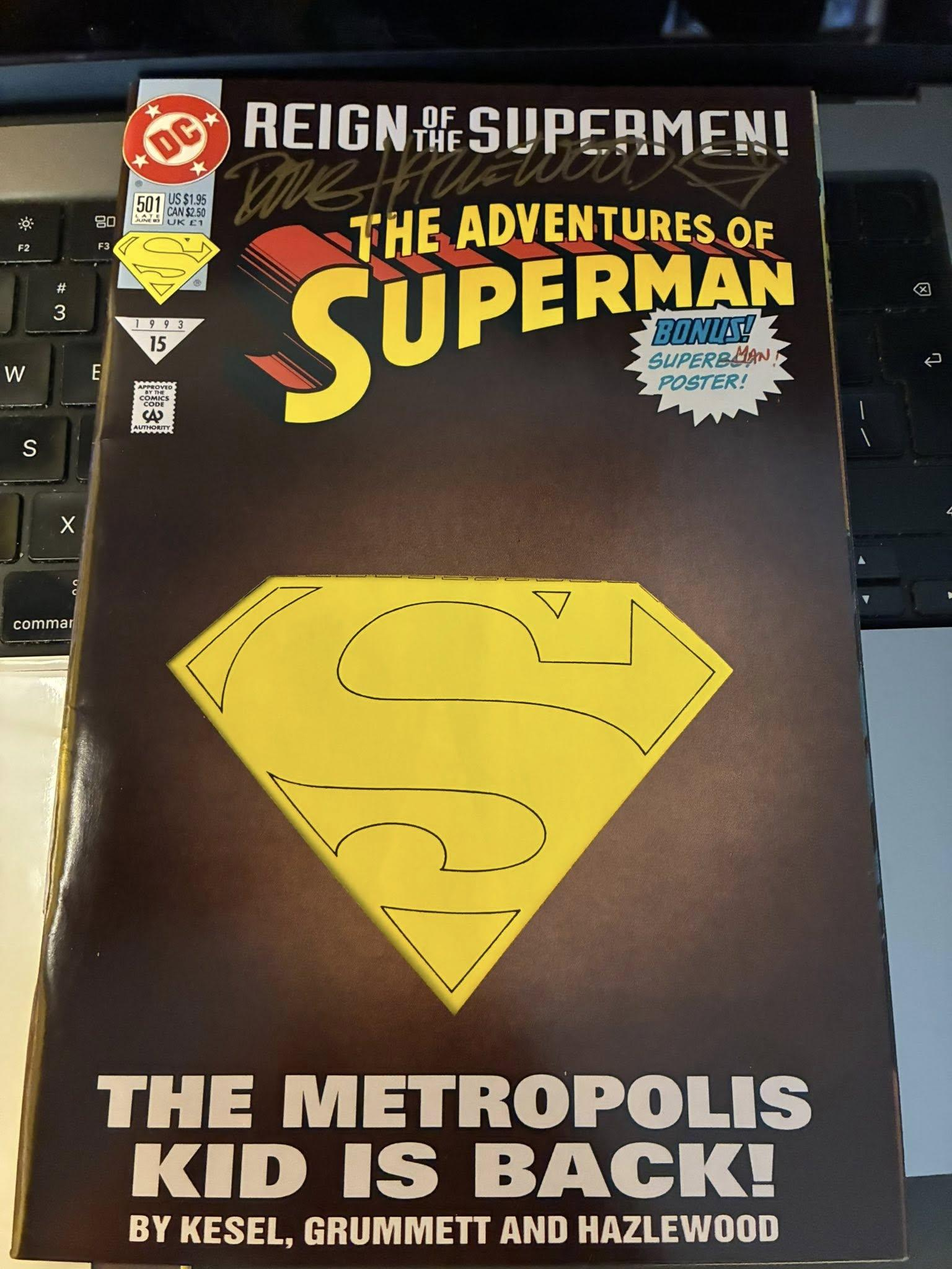comic: (15, 81, 903, 1265)
